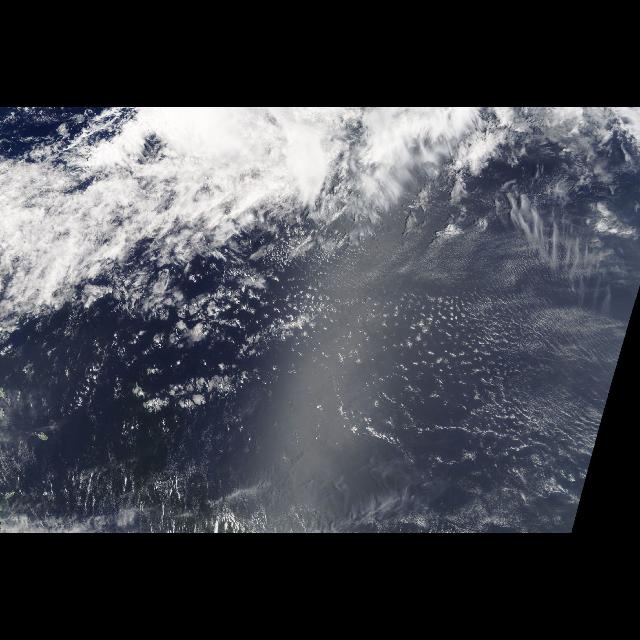Sugar: (128, 243, 636, 533)
